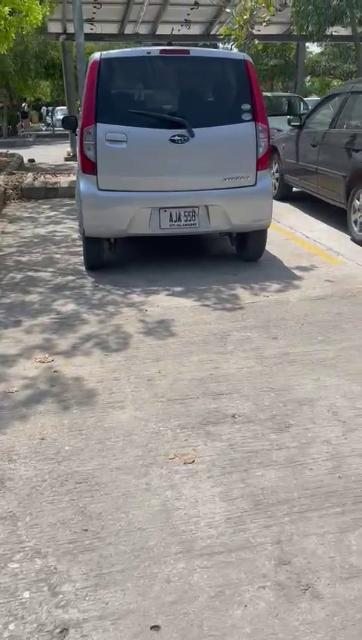plate: (157, 205, 205, 229)
